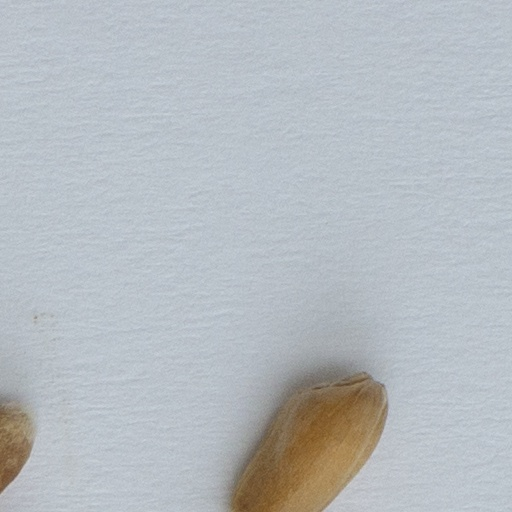Wheat-grain-poly: (227, 367, 391, 511), (0, 402, 34, 497)
